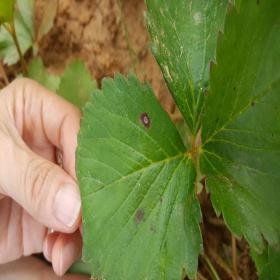Leaf Spot: (74, 70, 204, 279), (199, 0, 279, 255)
